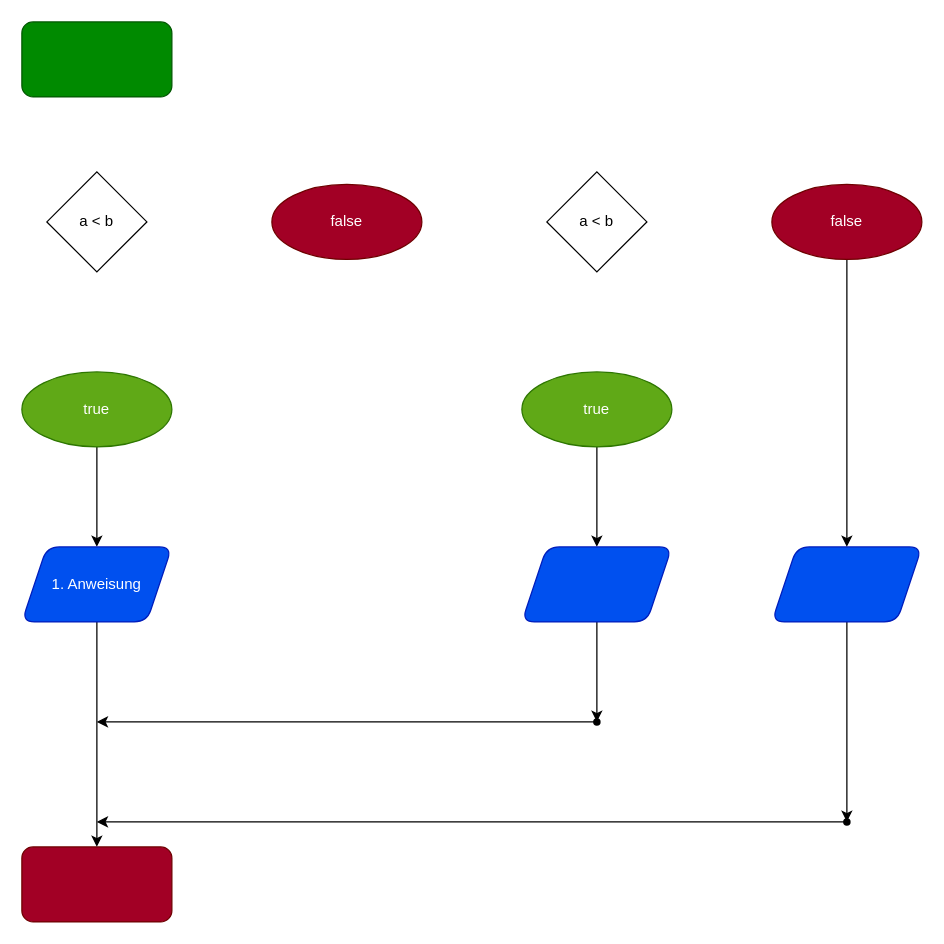
Some shapes in this 944 by 944 pixel diagram are drawn without their labels. The shapes that lost their labels are listed below. From the top down, each one's box as (x1, y1, x2, y2) in pixels, then its label:
(21, 21, 172, 97): Start
(521, 546, 672, 622): 2. Anweisung
(771, 546, 922, 622): Else Anweisung
(21, 846, 172, 922): Stop
